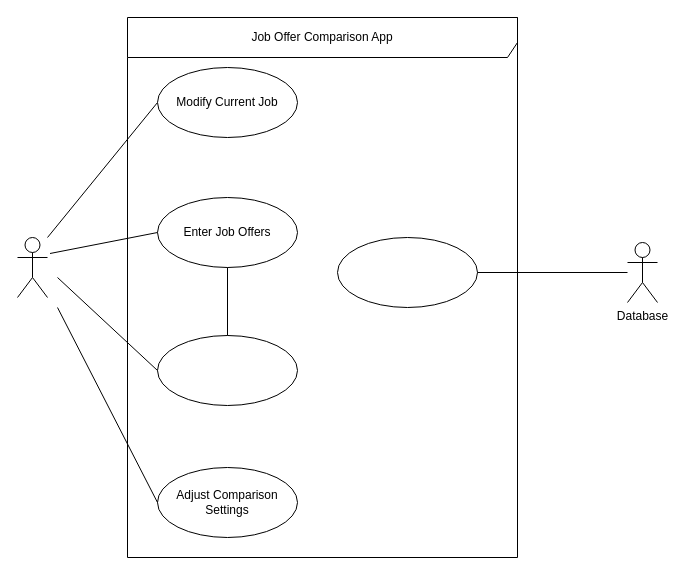
The diagram is 685 pixels wide and 575 high, and some of its shapes have lost their labels. The centre of each missing label's shape, as x and y in pixels:
Compare Job Offers: the point at 227,370
Restore Application State: the point at 407,272
User: the point at 32,267
